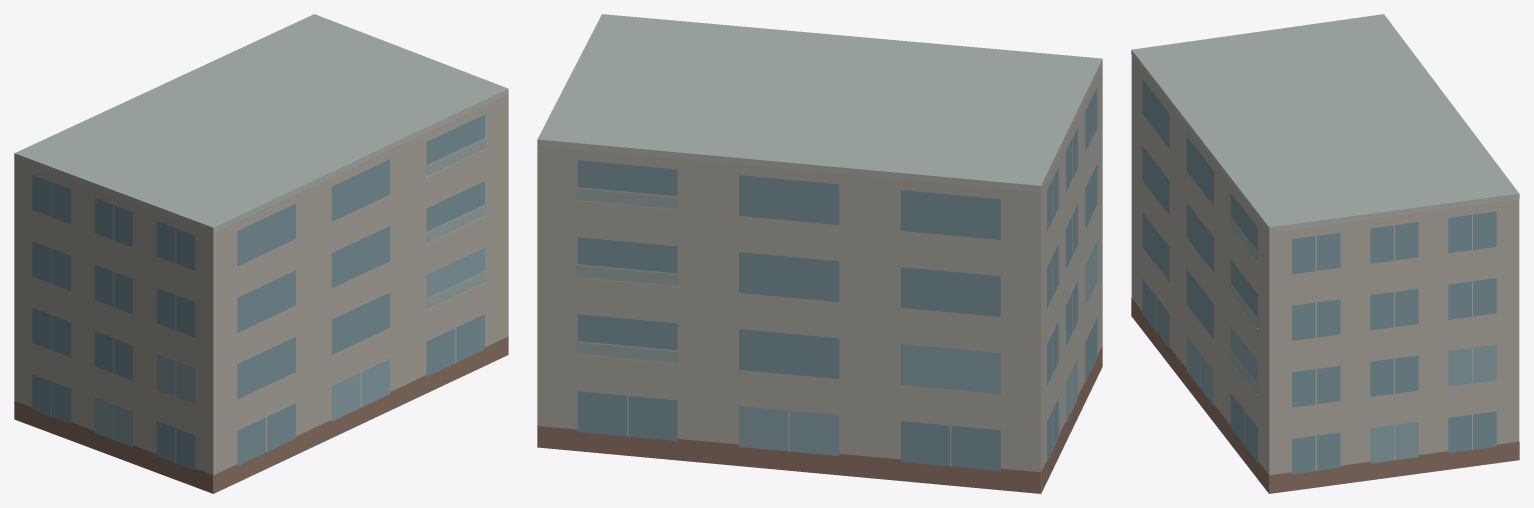
Rendered from survey-upis-32926908.glb.
The picture shows the model from 3 angles, left to right: view 1: azimuth 30°, elevation 25°; view 2: azimuth 150°, elevation 25°; view 3: azimuth 270°, elevation 25°; orthographic projection. The views are drawn at different scales.
Visible parts, largest first — view 1: survey-upis-32926908.tmp; view 2: survey-upis-32926908.tmp; view 3: survey-upis-32926908.tmp.
Boxes of the visible parts, x1,y1,x2,y2 form: survey-upis-32926908.tmp: (14,14,508,493); survey-upis-32926908.tmp: (537,14,1102,493); survey-upis-32926908.tmp: (1131,14,1519,493).
Size of the model in its own units: 20.96 by 12.2 by 16.11.
